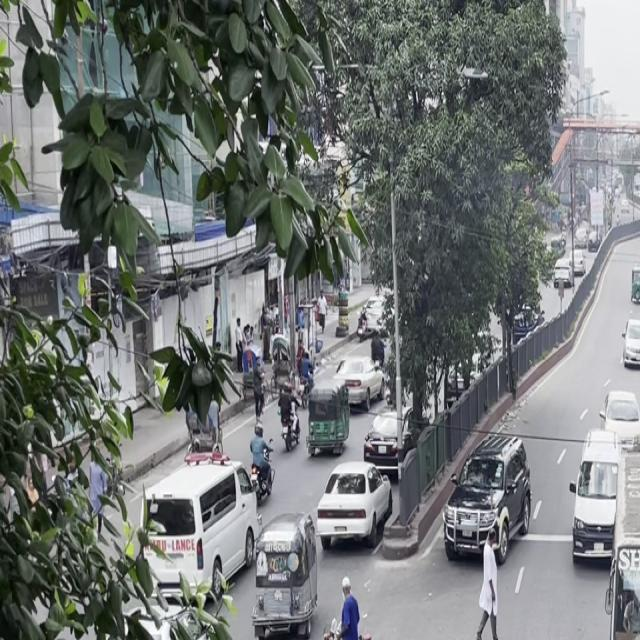bicycle: (307, 580, 395, 640)
bus: (596, 429, 640, 640)
car: (129, 456, 261, 593), (438, 428, 535, 574), (564, 418, 624, 578), (311, 455, 398, 558), (358, 412, 411, 491), (600, 383, 640, 454), (620, 311, 640, 375)
rickshaw: (243, 510, 324, 640)
